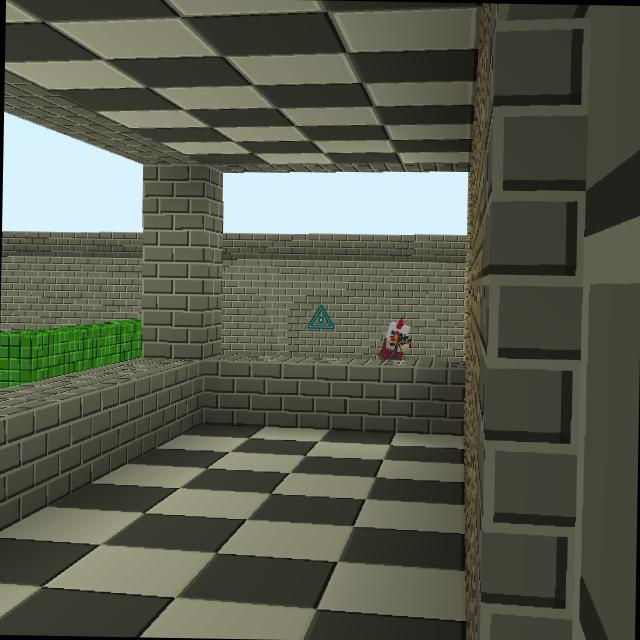enemy: (376, 314, 415, 361)
